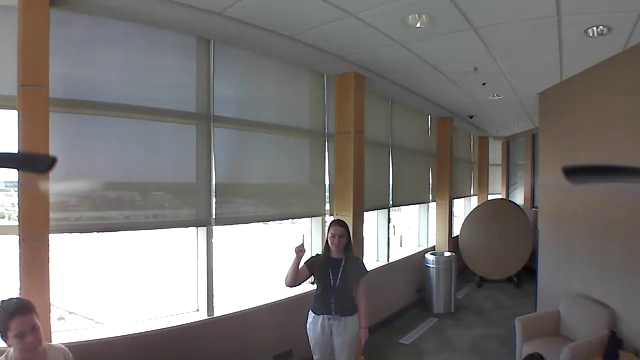up: (292, 233, 307, 259)
